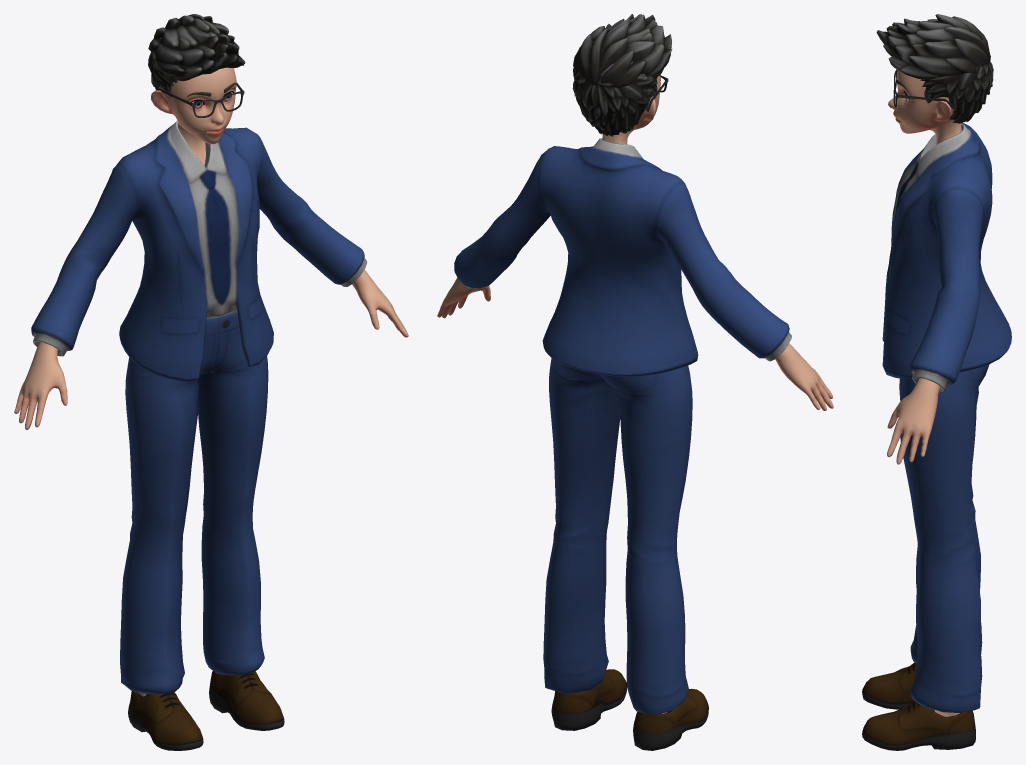
Rendered from Asian Man_Mesh.obj.
The picture shows the model from 3 angles, left to right: view 1: azimuth 30°, elevation 25°; view 2: azimuth 150°, elevation 25°; view 3: azimuth 270°, elevation 25°; orthographic projection.
Visible parts, largest first — view 1: Asian Man_Mesh_0; view 2: Asian Man_Mesh_0; view 3: Asian Man_Mesh_0.
Part boxes in pixels (bbox=[...]): Asian Man_Mesh_0: bbox=[14, 14, 408, 750]; Asian Man_Mesh_0: bbox=[437, 14, 833, 750]; Asian Man_Mesh_0: bbox=[862, 14, 1011, 750].
Bounding box in the file's own units: 1.06 × 1.85 × 0.3556.
Materials: 1 (1 with a texture image).
